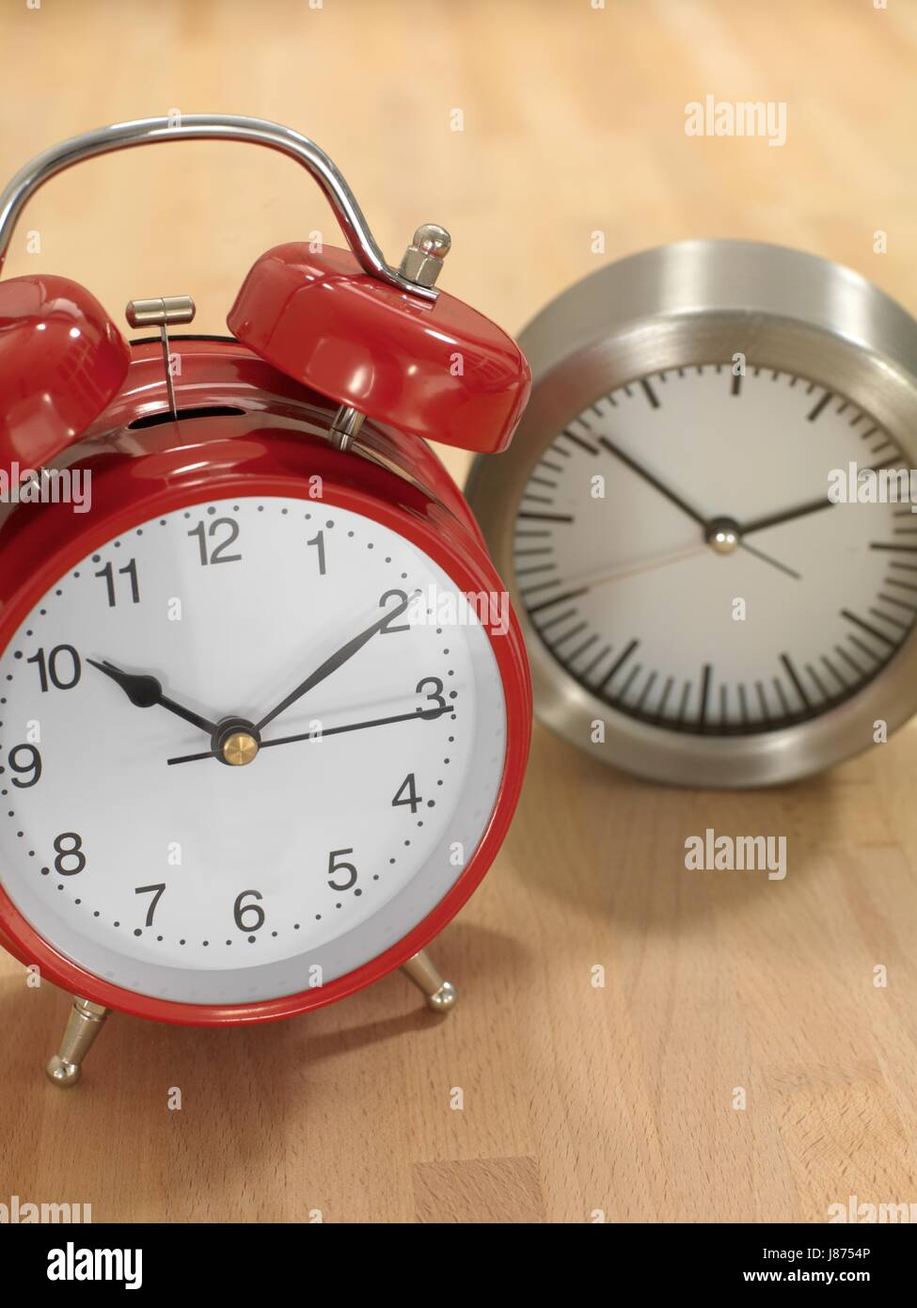not a gesture sign: (256, 615, 387, 731)
